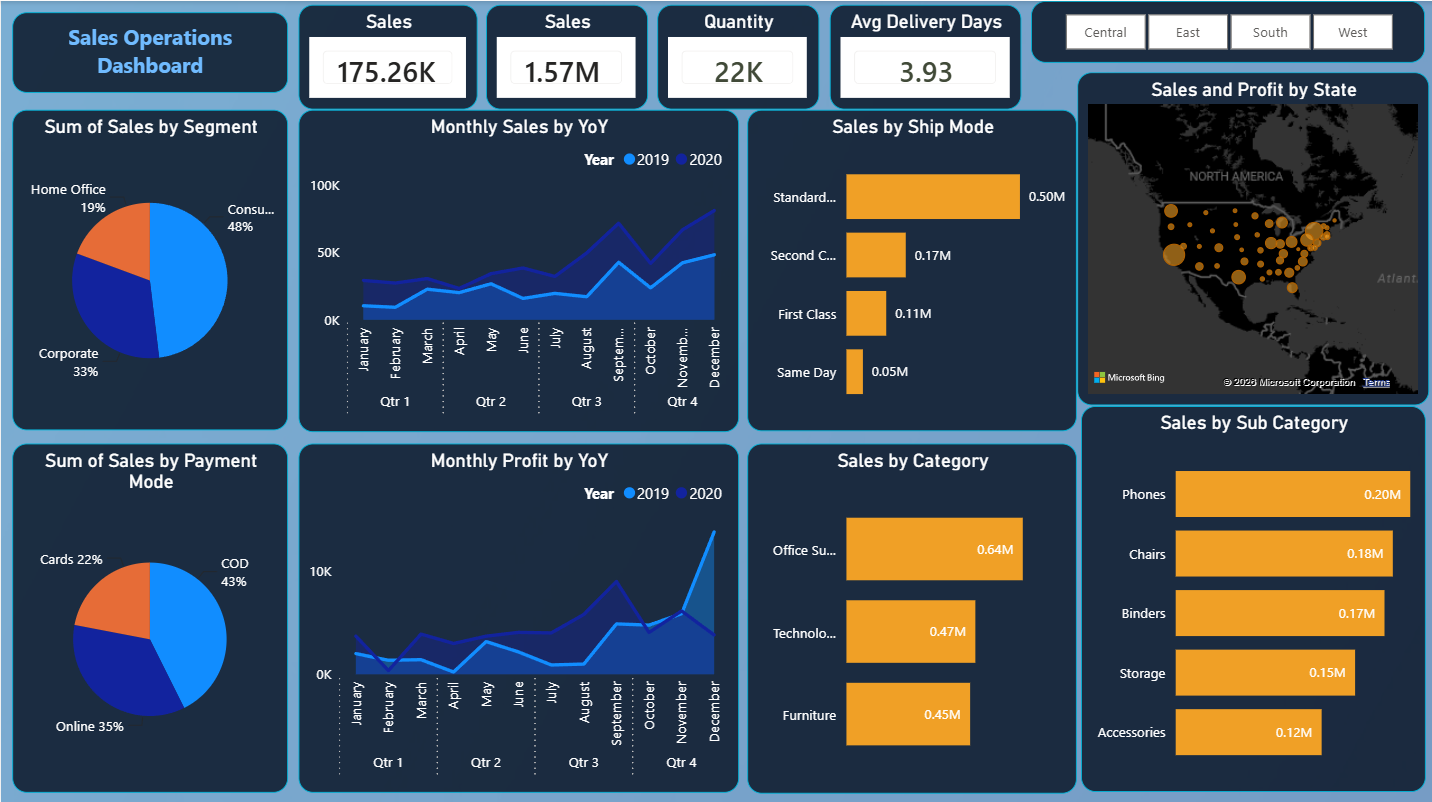

The page's visual inventory and layout, read from the dashboard file:
{"tool":"powerbi","page":{"name":"Page 1","canvas":[1280,720],"ordinal":0},"visuals":[{"type":"clusteredBarChart","title":"Sales by Category","fields":{"Category":["Sheet1.Category"],"Y":["Sum(Sheet1.Sales)"]},"box":[666.6,395.3,294.8,312.7],"z":0},{"type":"clusteredBarChart","title":"Sales by Sub Category","fields":{"Y":["Sum(Sheet1.Sales)"],"Category":["Sheet1.Sub-Category"]},"box":[964.8,361.8,308.2,345],"z":1000},{"type":"clusteredBarChart","title":"Sales by Ship Mode","fields":{"Y":["Sum(Sheet1.Sales)"],"Category":["Sheet1.Ship Mode"]},"box":[666.6,97.1,294.8,287],"z":2000},{"type":"areaChart","title":"Monthly Sales by YoY","fields":{"Y":["Sum(Sheet1.Sales)"],"Category":["Sheet1.Order Date.Variation.Date Hierarchy.Quarter","Sheet1.Order Date.Variation.Date Hierarchy.Month"],"Series":["Sheet1.Order Date.Variation.Date Hierarchy.Year"]},"box":[265.6,96.7,393.3,287.8],"z":3000},{"type":"areaChart","title":"Monthly Profit by YoY","fields":{"Y":["Sum(Sheet1.Profit)"],"Category":["Sheet1.Order Date.Variation.Date Hierarchy.Quarter","Sheet1.Order Date.Variation.Date Hierarchy.Month"],"Series":["Sheet1.Order Date.Variation.Date Hierarchy.Year"]},"box":[265.6,395.6,393.3,312.2],"z":4000},{"type":"map","title":"Sales and Profit by State","fields":{"Category":["Sheet1.State"],"Size":["Sum(Sheet1.Sales)"]},"box":[961.1,63.3,314.4,297.8],"z":5000},{"type":"pieChart","fields":{"Category":["Sheet1.Segment"],"Y":["Sum(Sheet1.Sales)"]},"box":[10,96.7,246.7,286.7],"z":6000},{"type":"pieChart","fields":{"Y":["Sum(Sheet1.Sales)"],"Category":["Sheet1.Payment Mode"]},"box":[10,395.6,246.7,312.2],"z":7000},{"type":"slicer","fields":{"Values":["Sheet1.Region"]},"box":[920,0,352.2,55.6],"z":8000},{"type":"textbox","box":[10,10,246.7,72.2],"z":9000},{"type":"cardVisual","title":"Sales","fields":{"Data":["Sum(Sheet1.Sales)"]},"box":[433.3,3.3,144.4,93.3],"z":10000},{"type":"cardVisual","title":"Quantity","fields":{"Data":["Sum(Sheet1.Quantity)"]},"box":[586.7,3.3,144.4,93.3],"z":11000},{"type":"cardVisual","title":"Avg Delivery Days","fields":{"Data":["Avg(Sheet1.AvgDelivery)"]},"box":[740,3.3,171.1,93.3],"z":12000},{"type":"cardVisual","title":"Sales","fields":{"Data":["Sum(Sheet1.Profit)"]},"box":[265.6,3.3,160,93.3],"z":13000}]}

Visuals, with their boxes in screenshot pixels (x1, y1, x2, y2), scaled from the page's 1280x720 canvas onto the 1432x802 screenshot:
"Sales by Category" clusteredBarChart: rect(746, 440, 1076, 789)
"Sales by Sub Category" clusteredBarChart: rect(1079, 403, 1424, 787)
"Sales by Ship Mode" clusteredBarChart: rect(746, 108, 1076, 428)
"Monthly Sales by YoY" areaChart: rect(297, 108, 737, 428)
"Monthly Profit by YoY" areaChart: rect(297, 441, 737, 788)
"Sales and Profit by State" map: rect(1075, 71, 1427, 402)
pieChart - Sheet1.Segment x Sum(Sheet1.Sales): rect(11, 108, 287, 427)
pieChart - Sum(Sheet1.Sales) x Sheet1.Payment Mode: rect(11, 441, 287, 788)
slicer - Sheet1.Region: rect(1029, 0, 1423, 62)
textbox: rect(11, 11, 287, 92)
"Sales" cardVisual: rect(485, 4, 646, 108)
"Quantity" cardVisual: rect(656, 4, 818, 108)
"Avg Delivery Days" cardVisual: rect(828, 4, 1019, 108)
"Sales" cardVisual: rect(297, 4, 476, 108)
